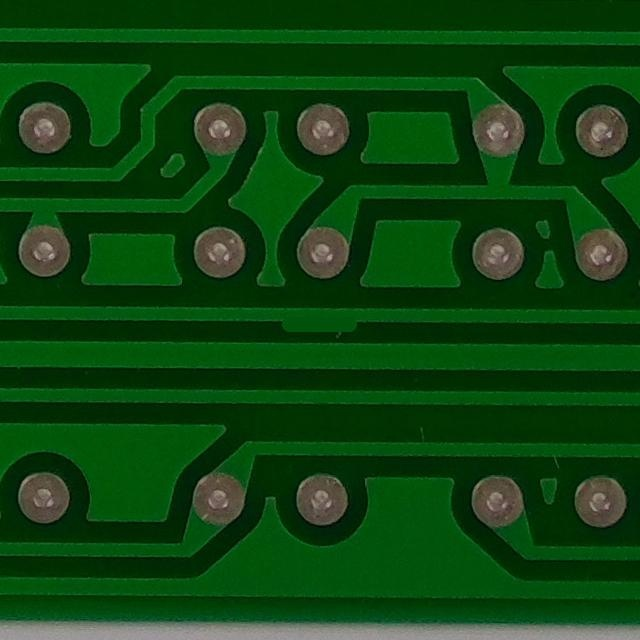spur: (275, 295, 366, 346)
